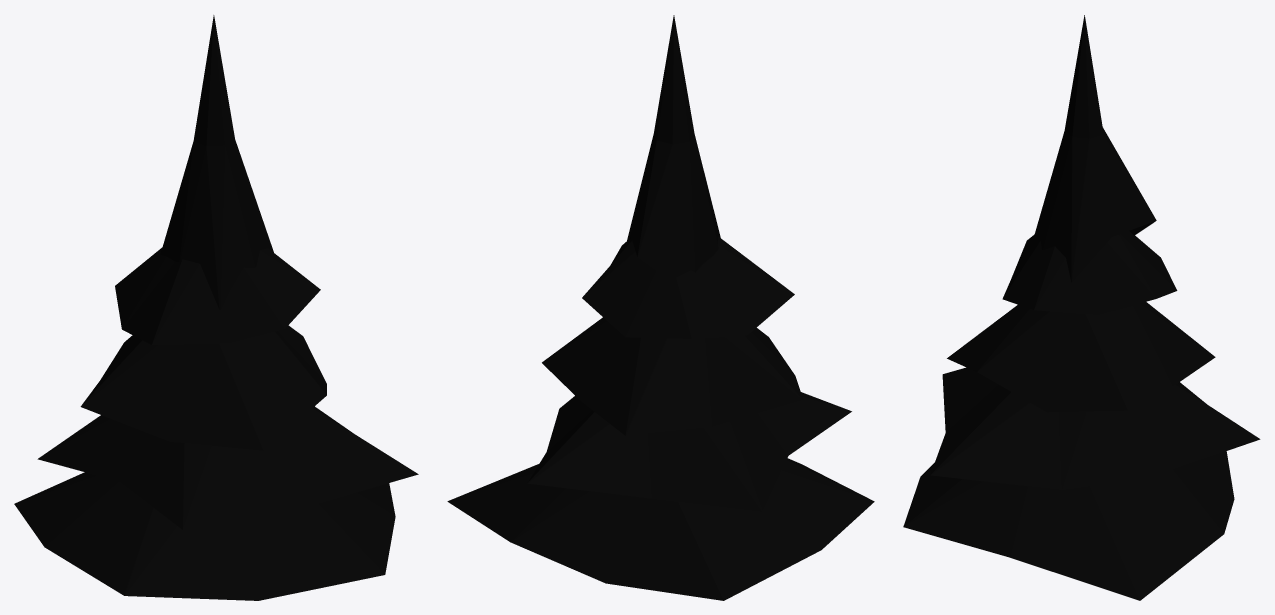
Rendered from SM_pine.fbx.
3 views of the same model, side by side, from view 1: azimuth 30°, elevation 25°; view 2: azimuth 150°, elevation 25°; view 3: azimuth 270°, elevation 25° (orthographic). The views are drawn at different scales.
Parts seen in each view (by area): view 1: pine_crown; view 2: pine_crown; view 3: pine_crown.
Boxes of the visible parts, x1,y1,x2,y2 form: pine_crown: [14, 15, 418, 600]; pine_crown: [447, 15, 874, 600]; pine_crown: [903, 15, 1260, 600].
Size of the model in its own units: 5.89 by 8.71 by 5.35.
